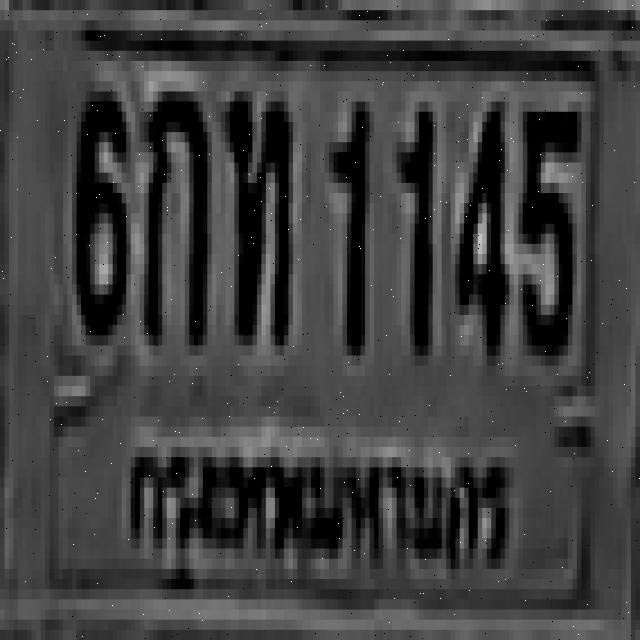1: (329, 92, 365, 346), (396, 102, 428, 346)
10GorGai: (140, 82, 203, 336)
32ThorThaHan: (226, 87, 288, 330)
4: (455, 92, 505, 346)
5: (518, 102, 576, 346)
6: (72, 81, 122, 325)
Bangkok: (120, 428, 524, 599)
